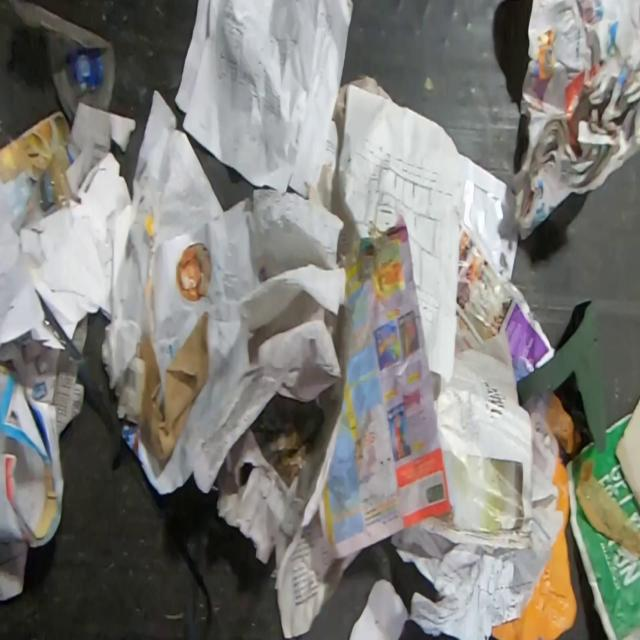cardboard: (17, 102, 140, 345), (516, 297, 608, 454), (136, 310, 209, 471), (348, 576, 410, 640), (612, 393, 640, 511)
rigid_plastic: (76, 362, 213, 628)
soft_plastic: (490, 455, 578, 640), (3, 0, 117, 127), (574, 457, 640, 560), (26, 151, 72, 222), (544, 392, 583, 460)
